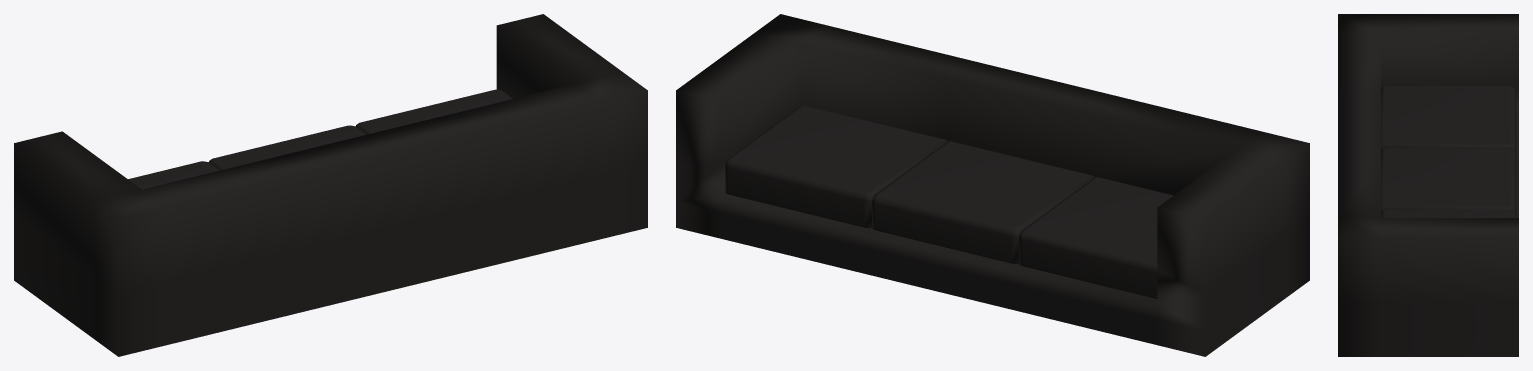
File: sofaB.fbx
The picture shows the model from 3 angles, left to right: view 1: azimuth 30°, elevation 25°; view 2: azimuth 150°, elevation 25°; view 3: azimuth 270°, elevation 25°; orthographic projection. The views are drawn at different scales.
Visible parts, largest first — view 1: sofaB; view 2: sofaB; view 3: sofaB.
Part boxes in pixels (x1=…): sofaB: x1=14, y1=14, x2=647, y2=356; sofaB: x1=676, y1=14, x2=1309, y2=356; sofaB: x1=1338, y1=14, x2=1518, y2=356.
Bounding box in the file's own units: 2.1 × 0.5207 × 0.7165.
